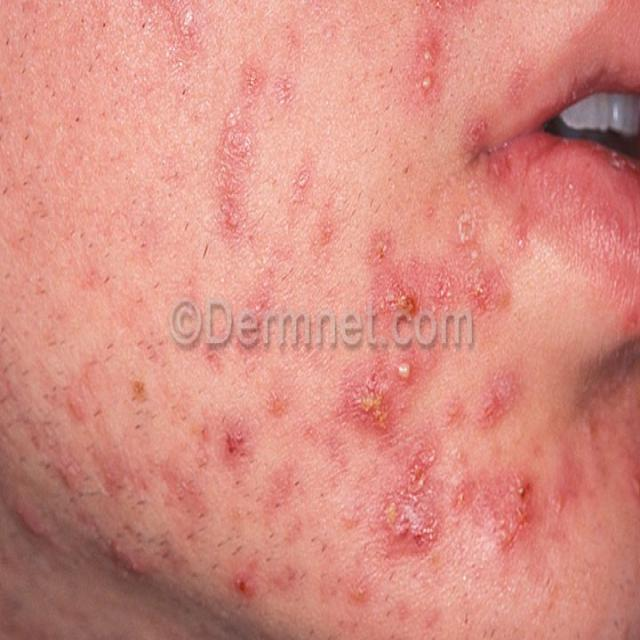blackheads: (394, 356, 419, 396), (418, 31, 441, 70), (412, 64, 438, 95)
